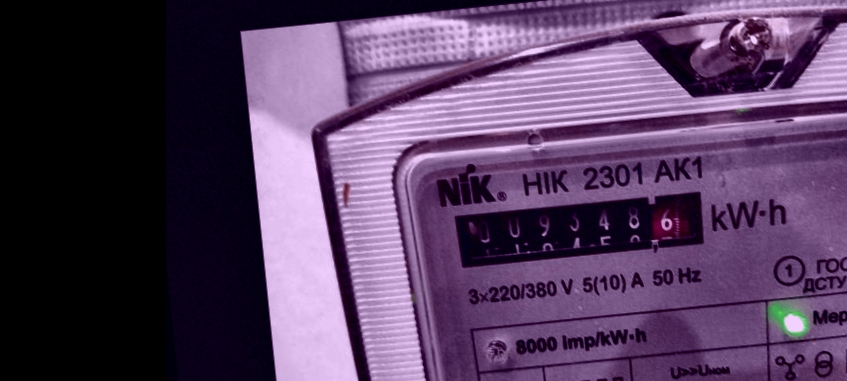0: (474, 220, 492, 247), (504, 214, 521, 241)
3: (565, 209, 581, 235)
4: (592, 203, 613, 235)
6: (655, 205, 675, 236)
8: (624, 203, 641, 233)
9: (535, 214, 552, 242)
screen: (435, 177, 719, 283)
